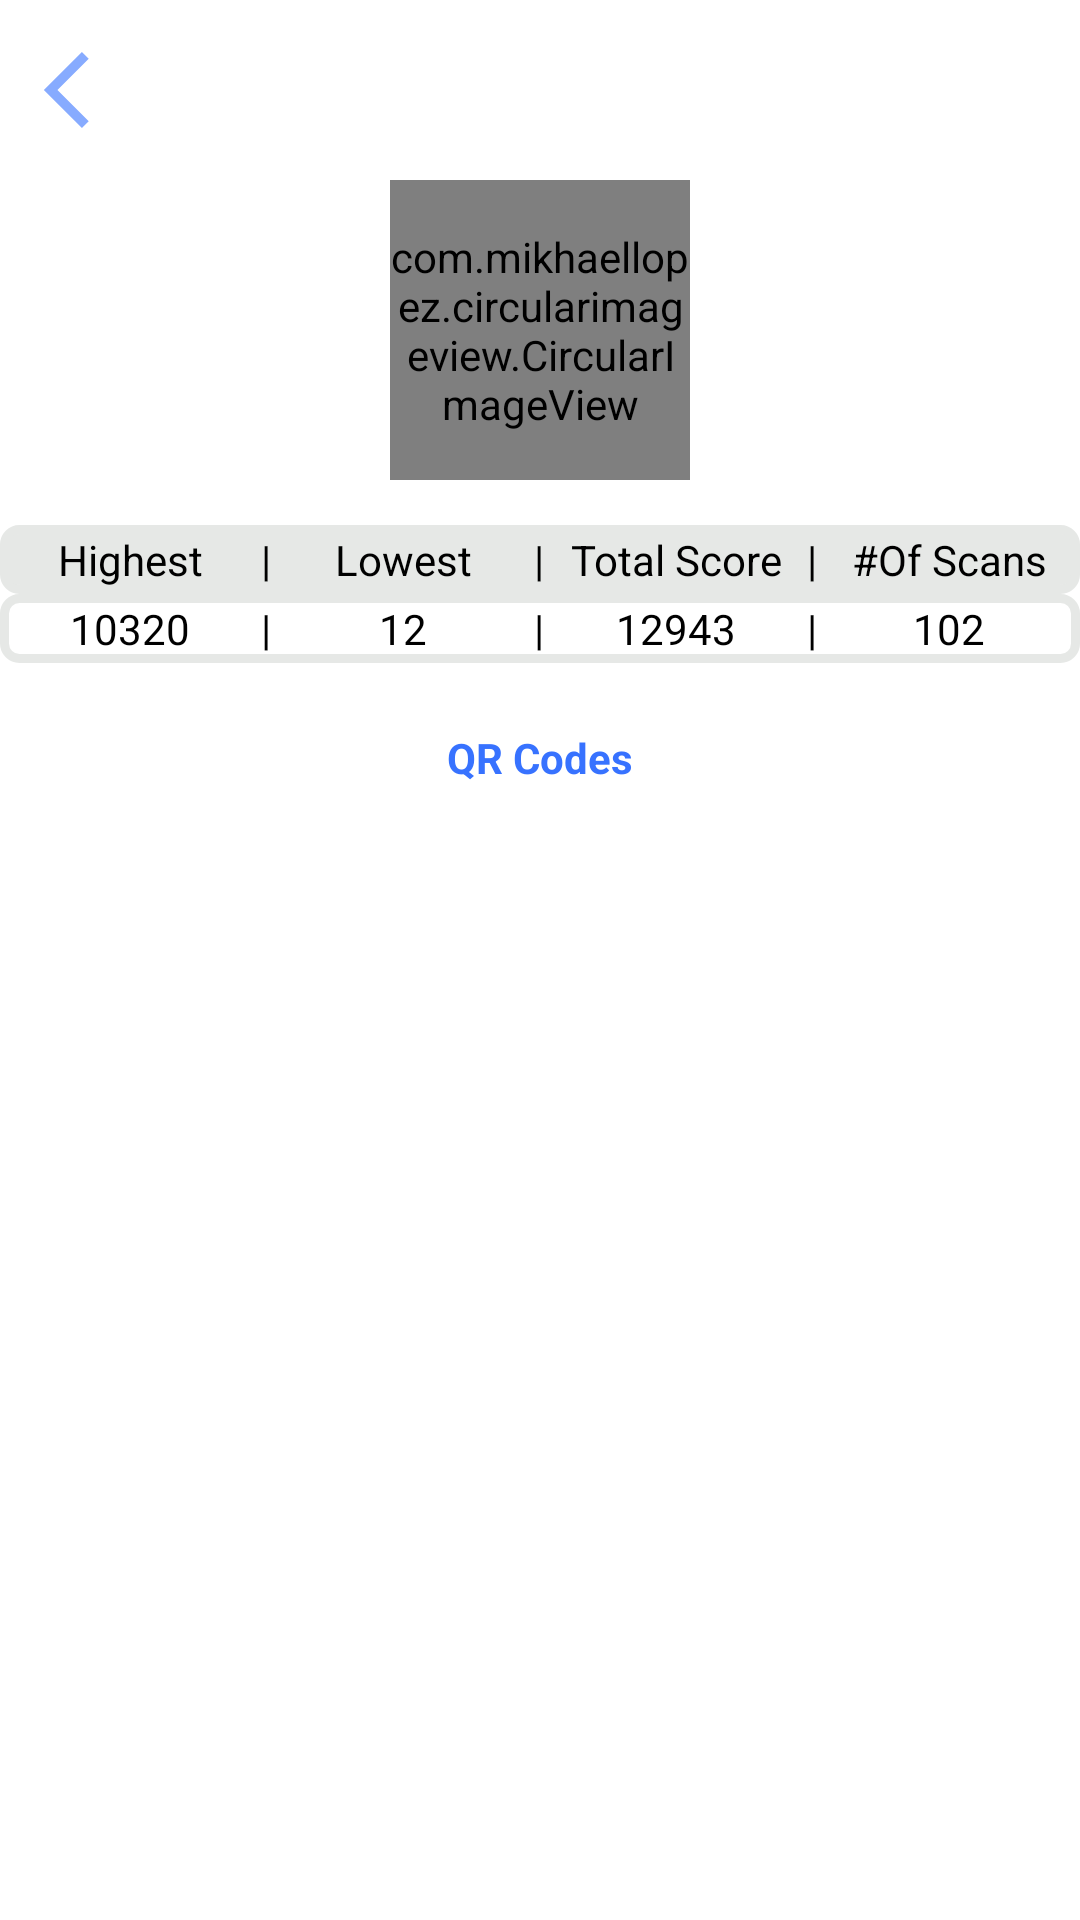

Named icons in this screenshot (1080w x 1920h) and their centers, (x=x, y=y):
backbtn: (x=66, y=90)
